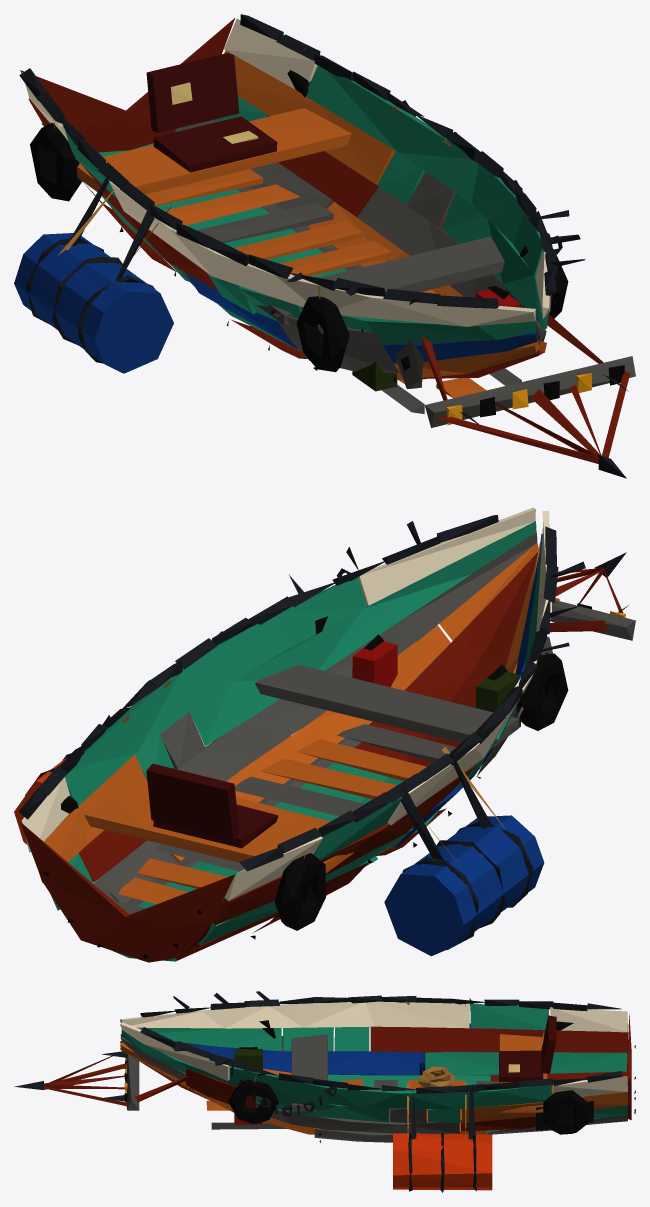
Rendered from tb_patchwork_skiff.three-web-toon.lod25.glb.
3 renders of one model, top to bottom at view 1: azimuth 30°, elevation 25°; view 2: azimuth 150°, elevation 25°; view 3: azimuth 270°, elevation 25°, orthographic. The views are drawn at different scales.
Parts seen in each view (by area): view 1: tb_patchwork_skiff_mesh_lod; view 2: tb_patchwork_skiff_mesh_lod; view 3: tb_patchwork_skiff_mesh_lod.
Part boxes in pixels (box(x1,y1,x2,y2)): tb_patchwork_skiff_mesh_lod: box(14, 14, 635, 478); tb_patchwork_skiff_mesh_lod: box(14, 507, 635, 962); tb_patchwork_skiff_mesh_lod: box(14, 991, 635, 1192).
Bounding box in the file's own units: 2.81 × 1.09 × 5.38.
